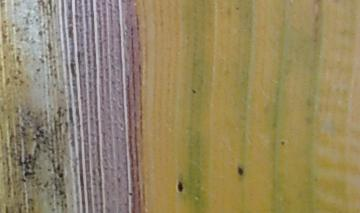tarspot: (177, 181, 184, 193), (237, 167, 245, 176), (191, 88, 198, 95), (281, 140, 285, 145)
